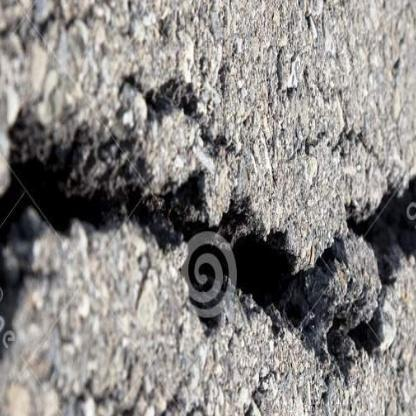Cracks: (0, 105, 416, 390), (115, 71, 233, 164)
